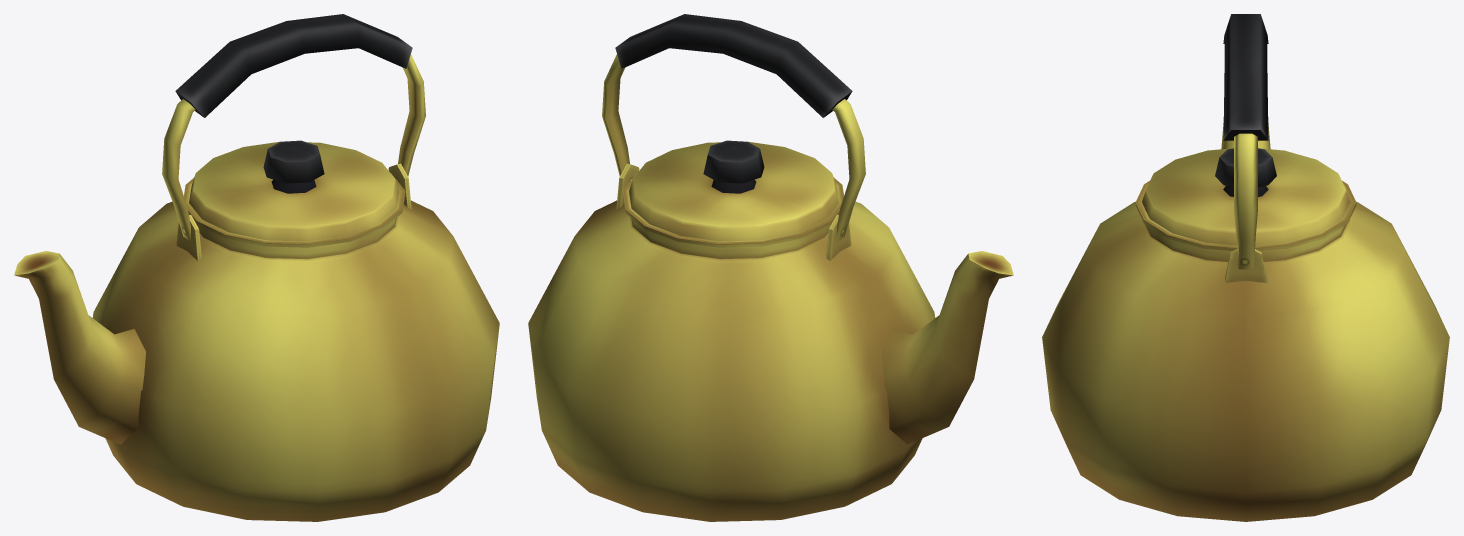
File: KR_Kettle_02_01.fbx
3 views of the same model, side by side, from view 1: azimuth 30°, elevation 25°; view 2: azimuth 150°, elevation 25°; view 3: azimuth 270°, elevation 25° (orthographic).
Parts seen in each view (by area): view 1: kettle01, lid01, handle01; view 2: kettle01, lid01, handle01; view 3: kettle01, lid01, handle01.
Part boxes in pixels (x1,y1,x2,y2): kettle01: [14, 163, 499, 521]; lid01: [184, 140, 405, 247]; handle01: [162, 14, 425, 241]; kettle01: [528, 163, 1013, 521]; lid01: [622, 140, 843, 247]; handle01: [602, 14, 865, 241]; kettle01: [1042, 123, 1449, 521]; lid01: [1135, 148, 1356, 250]; handle01: [1223, 14, 1268, 269].
Bounding box in the file's own units: 25.72 × 22.42 × 20.12.
